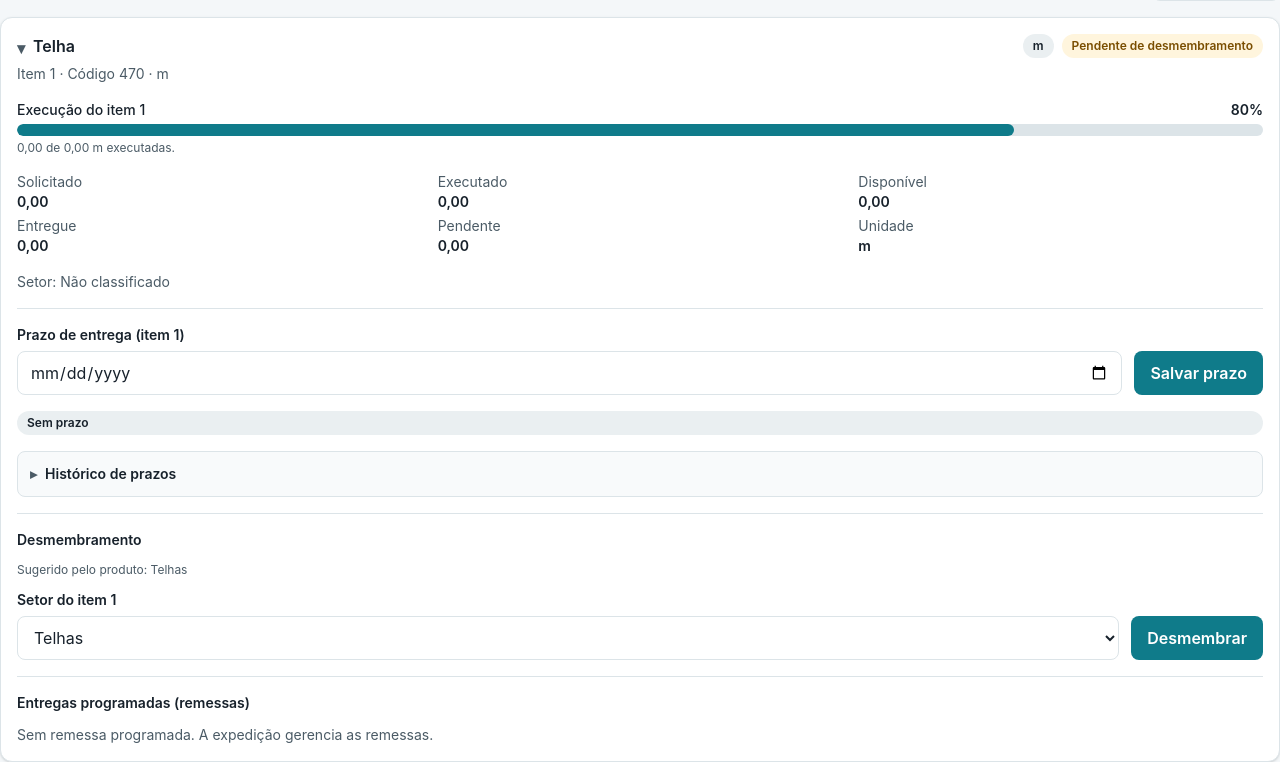
Test: PedidoVendedorPage › mantém a escolha explícita vazia e bloqueia o envio mesmo com sugestão
The width and height of the screenshot is (1280, 762).
(page scrolled)
Select "Selecione…" in the dropdown labelled "Setor do item 1" at (568, 638), box [17,616,1119,660]
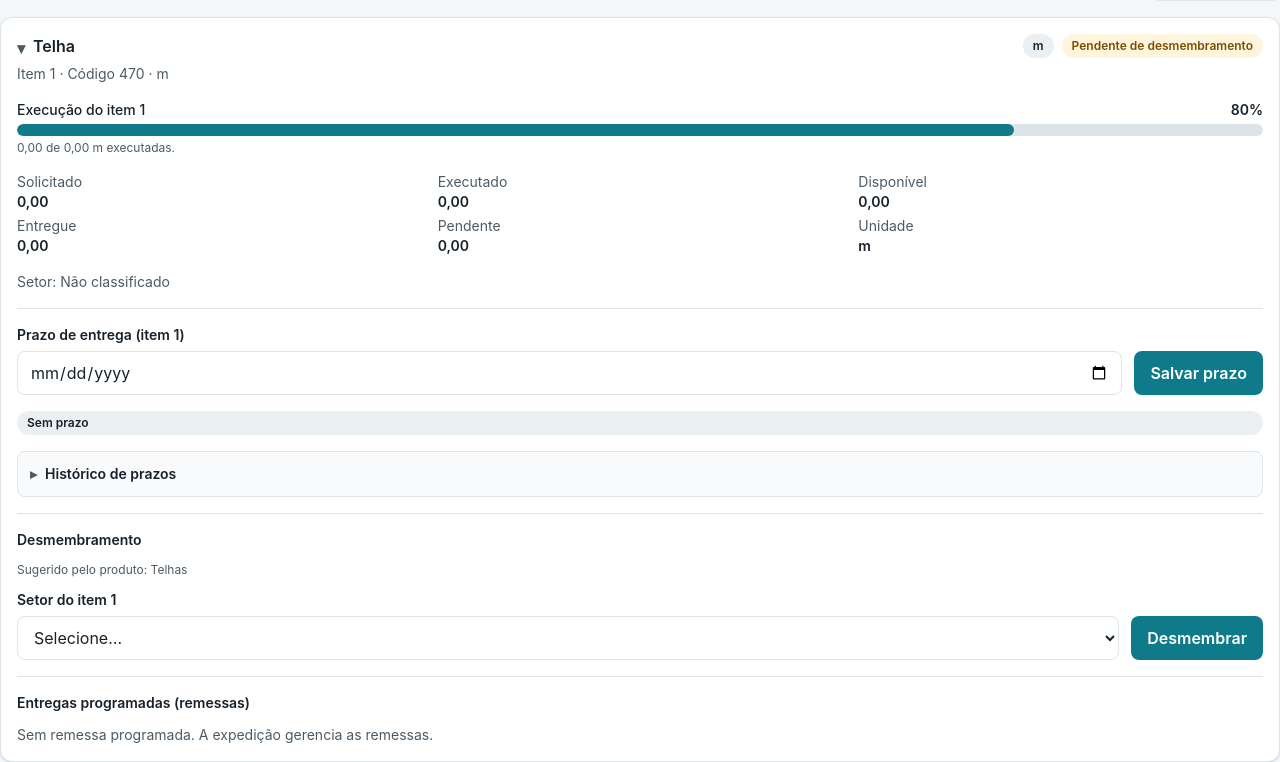
Click the button with aria-label "Classificar item 1" at (1197, 638), box [1131,616,1263,660]
(page scrolled)
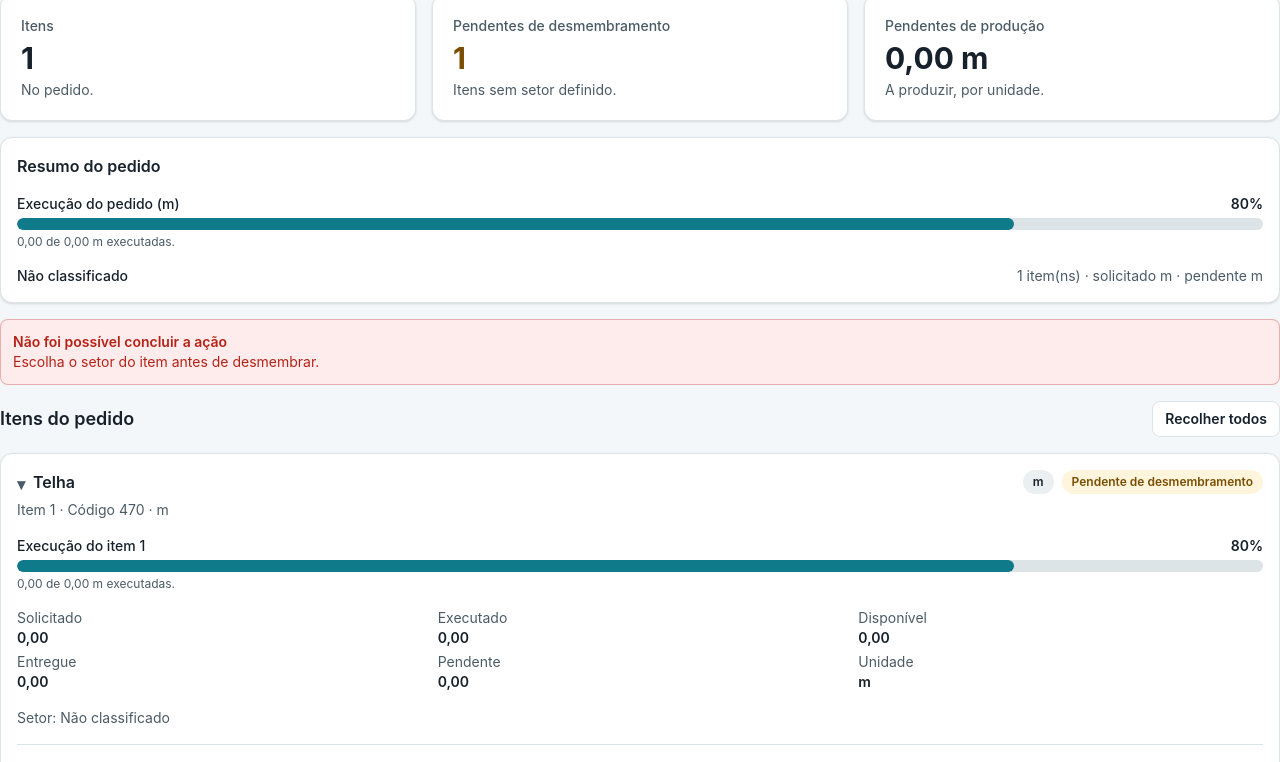
Expected: the text "Escolha o setor do item antes de desmembrar." is shown, [13,352,319,372]
